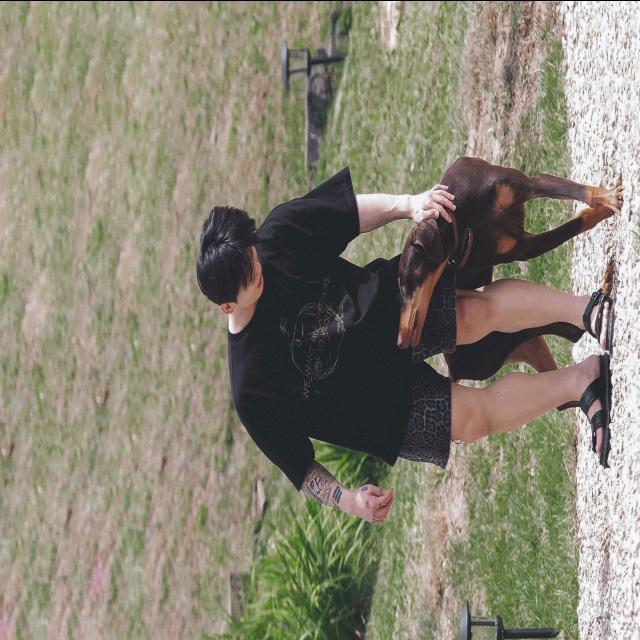Dogs: (387, 134, 623, 452)
